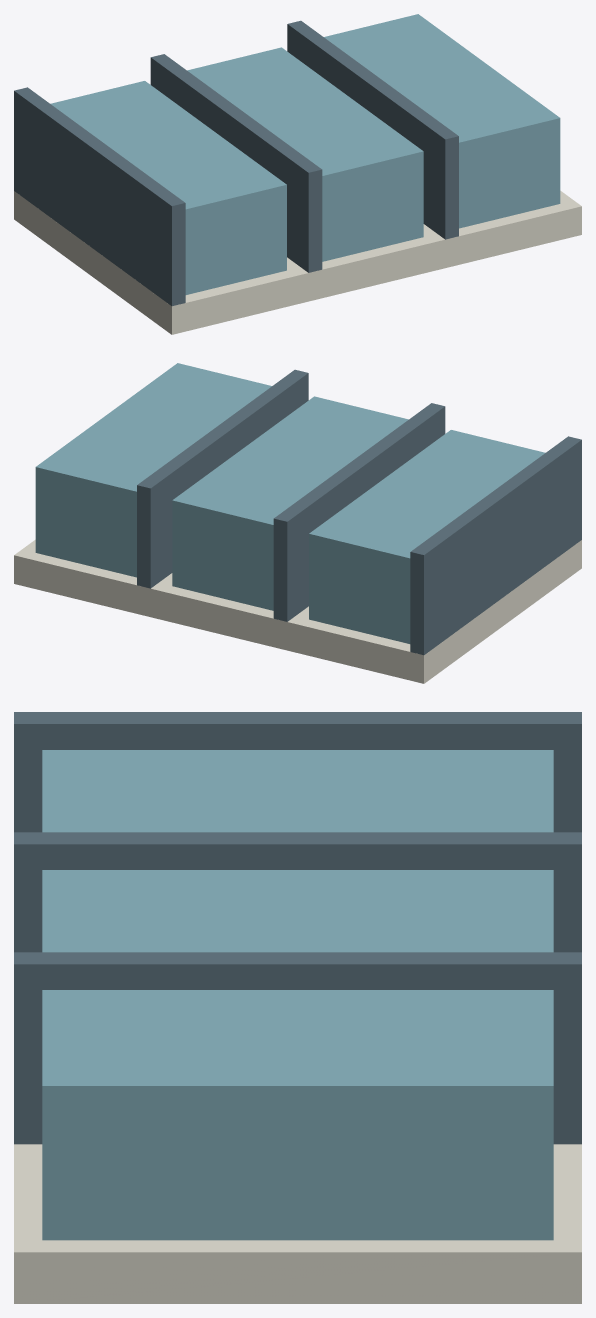
Rendered from voxel-city-districts-skylight-bank-b1bf15e1__24917.glb.
The picture shows the model from 3 angles, top to bottom: view 1: azimuth 30°, elevation 25°; view 2: azimuth 150°, elevation 25°; view 3: azimuth 270°, elevation 25°; orthographic projection. The views are drawn at different scales.
Parts seen in each view (by area): view 1: skylight-bank-glass, skylight-bank-dark, skylight-bank-concrete; view 2: skylight-bank-glass, skylight-bank-dark, skylight-bank-concrete; view 3: skylight-bank-glass, skylight-bank-dark, skylight-bank-concrete.
Part boxes in pixels (bbox=[...]): skylight-bank-glass: bbox=[50, 14, 560, 294]; skylight-bank-dark: bbox=[14, 20, 458, 306]; skylight-bank-concrete: bbox=[14, 190, 581, 334]; skylight-bank-glass: bbox=[35, 363, 545, 643]; skylight-bank-dark: bbox=[137, 369, 581, 655]; skylight-bank-concrete: bbox=[14, 539, 581, 683]; skylight-bank-glass: bbox=[42, 750, 553, 1240]; skylight-bank-dark: bbox=[14, 712, 581, 1144]; skylight-bank-concrete: bbox=[14, 1144, 581, 1303].
Size of the model in its own units: 3 by 0.8999 by 2.
